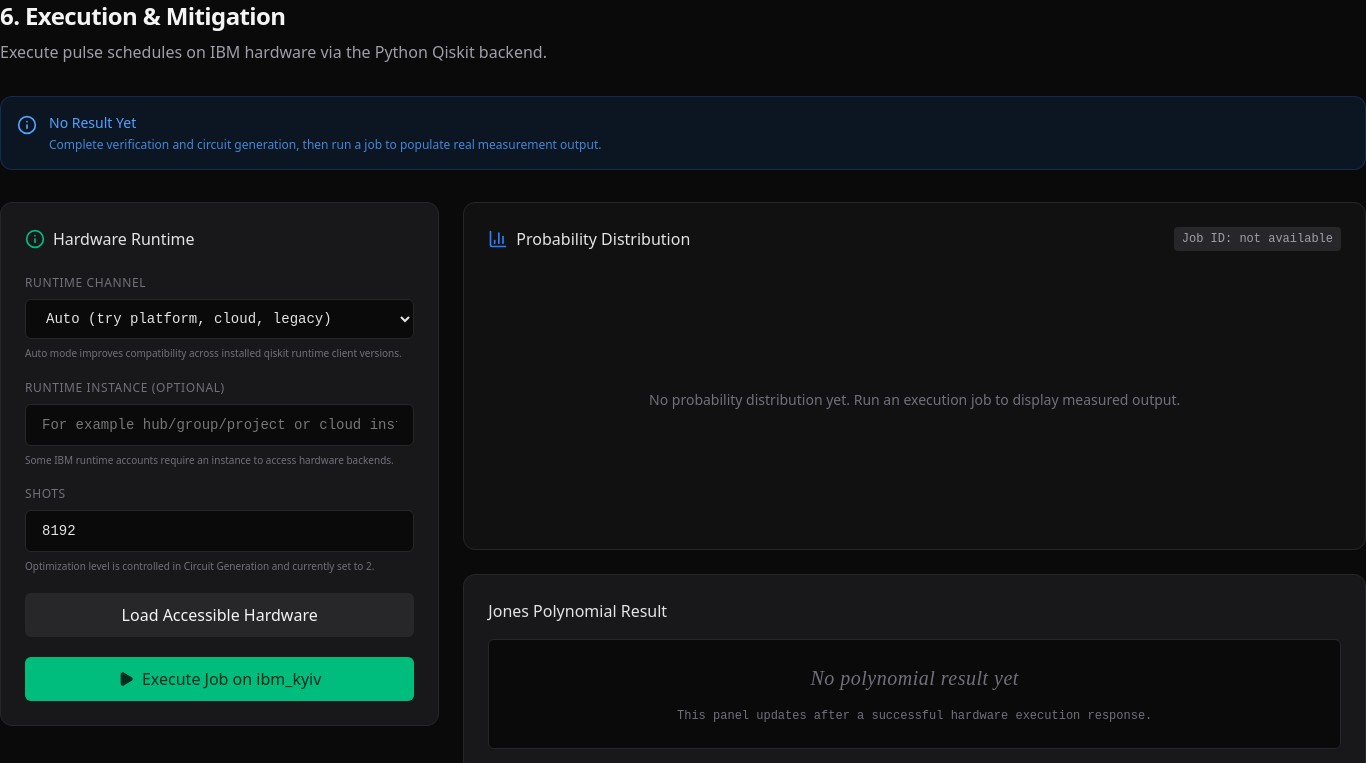
ExecutionResults › keeps previous successful result visible when a retry fails
Step 1. Click the button "Execute Job on ibm_kyiv" → (220, 678), box [25,656,414,700]
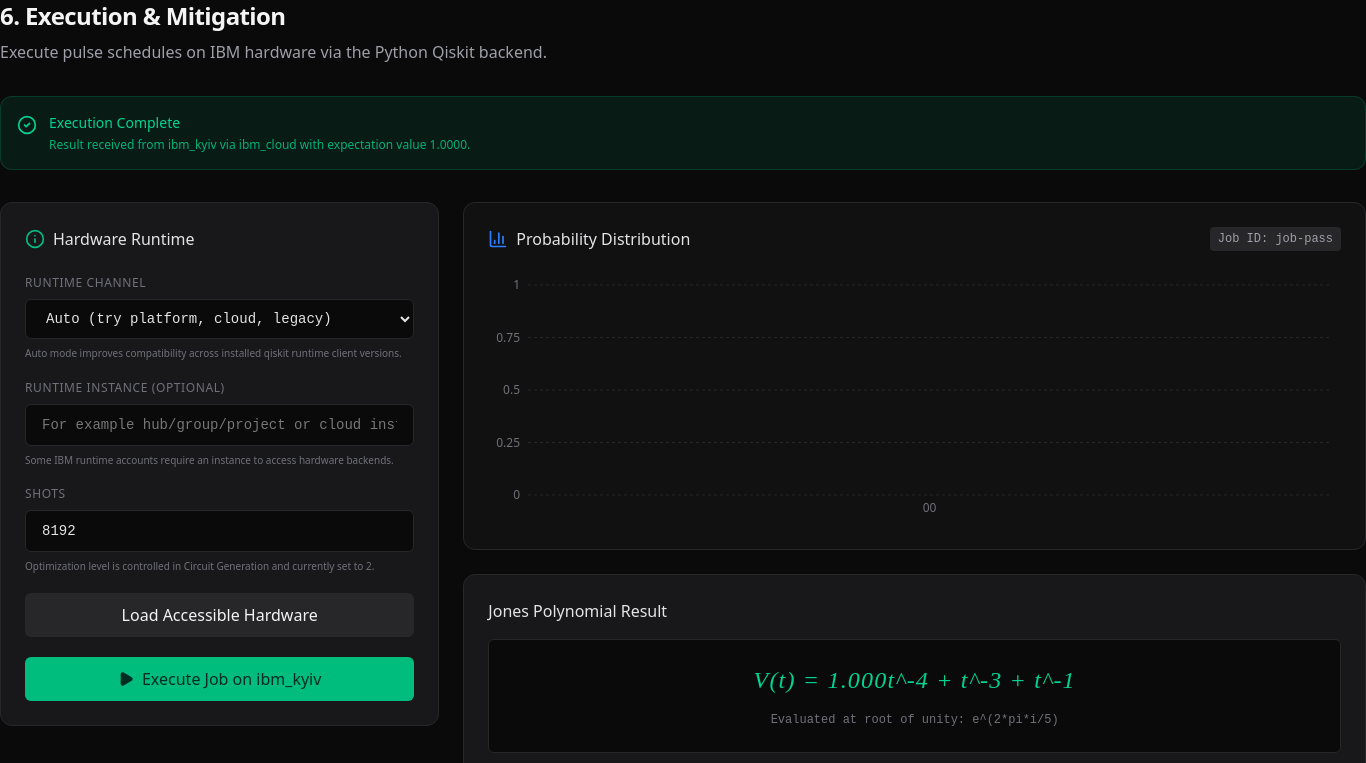
Now the heading "Execution Complete" is shown, box [49,113,180,132]
Step 2. Click the button "Execute Job on ibm_kyiv" → (220, 678), box [25,656,414,700]
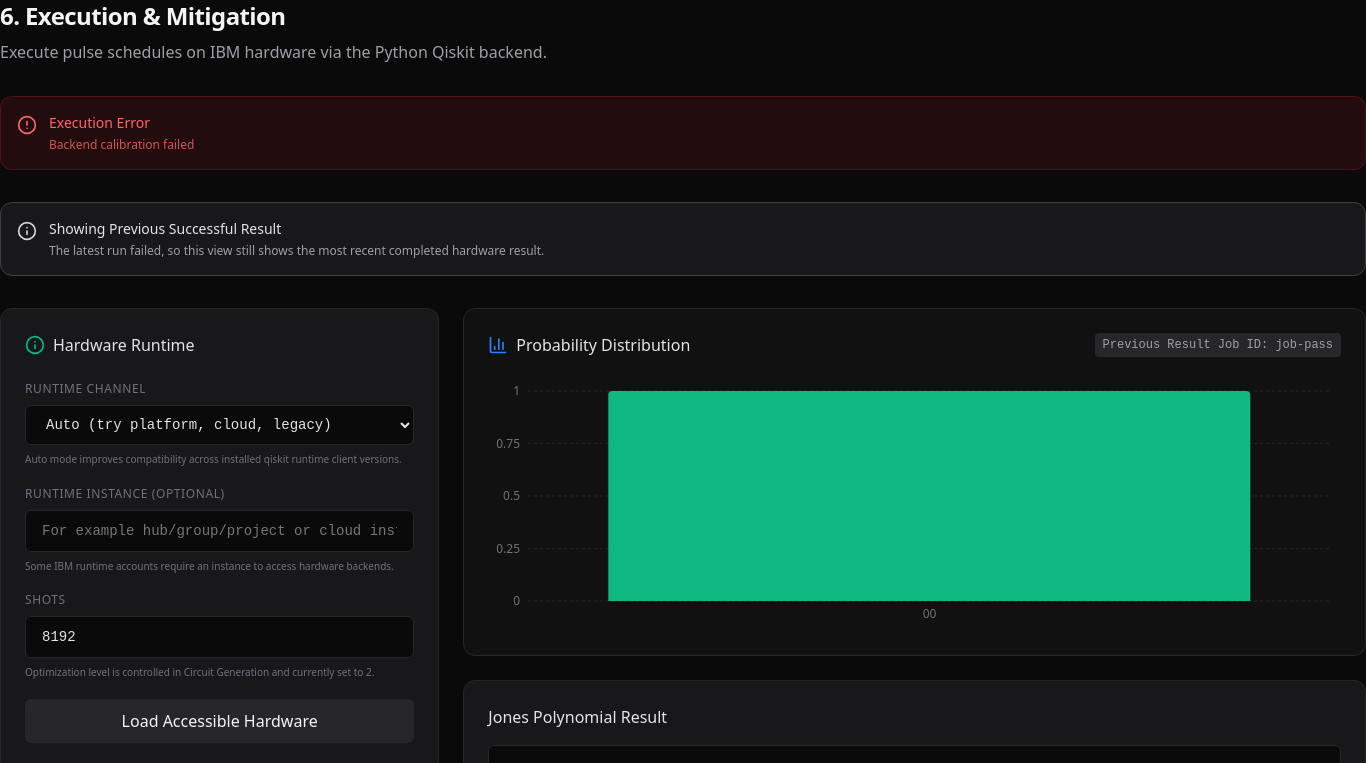
Now the text "Backend calibration failed" is shown, box [49,137,194,153]
Now the heading "Showing Previous Successful Result" is shown, box [49,219,281,238]
Now the text "Previous Result Job ID: job-pass" is shown, box [1095,333,1341,357]
